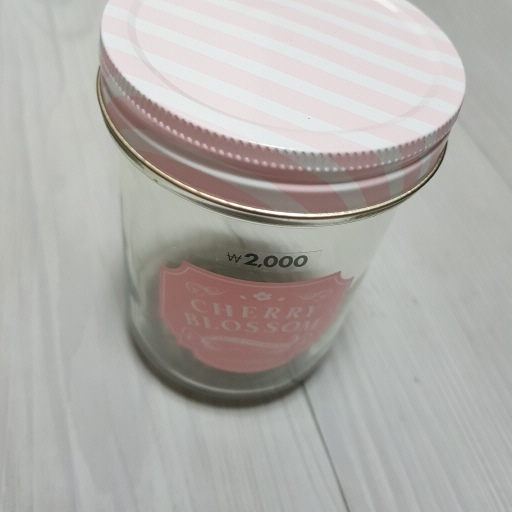Glass_5: (94, 3, 463, 412)
